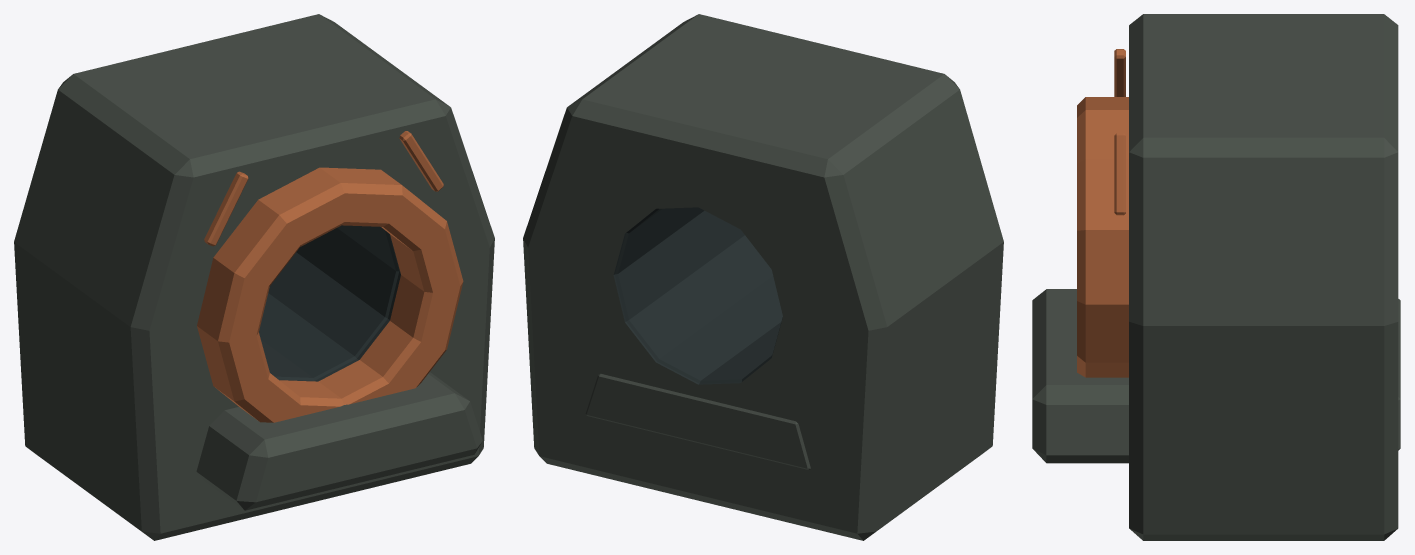
Rendered from LAVA_SPOUT.lo.glb.
3 views of the same model, side by side, from view 1: azimuth 30°, elevation 25°; view 2: azimuth 150°, elevation 25°; view 3: azimuth 270°, elevation 25° (orthographic). The views are drawn at different scales.
Visible parts, largest first — view 1: Body_Mesh; view 2: Body_Mesh; view 3: Body_Mesh.
Part boxes in pixels (x1,y1,x2,y2): Body_Mesh: [14, 14, 494, 540]; Body_Mesh: [523, 14, 1003, 540]; Body_Mesh: [1032, 14, 1400, 540].
Size of the model in its own units: 0.92 by 0.9 by 0.78.
